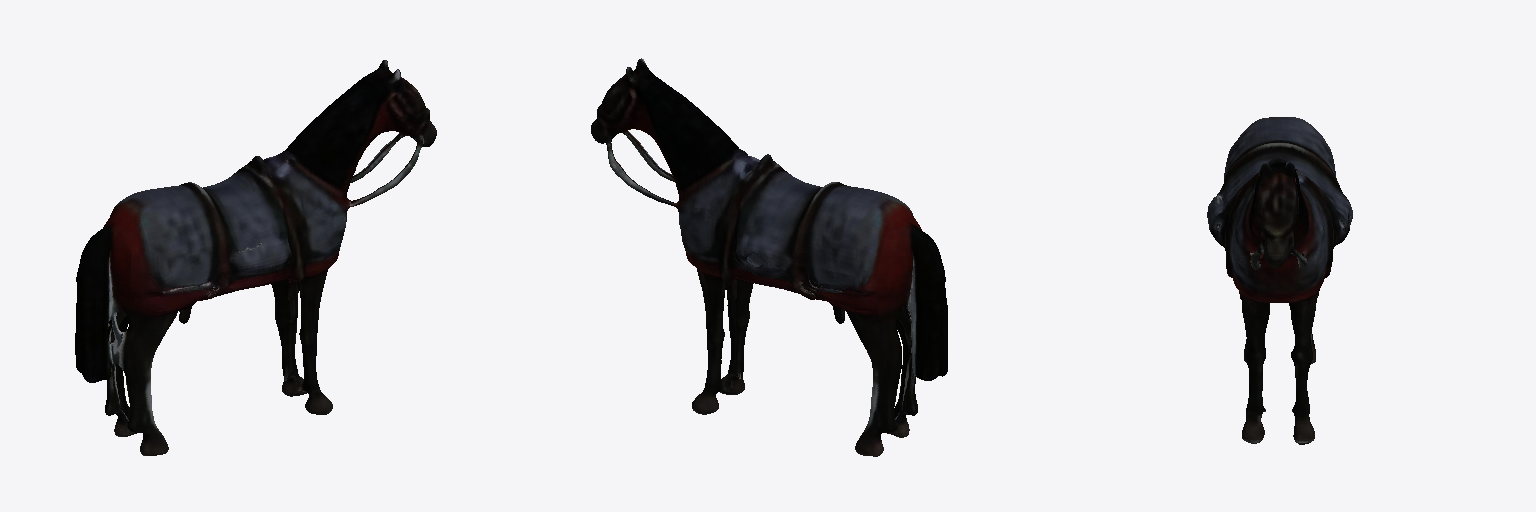
The picture shows the model from 3 angles: view 1: azimuth 30°, elevation 25°; view 2: azimuth 150°, elevation 25°; view 3: azimuth 270°, elevation 25°; orthographic projection.
Parts seen in each view (by area): view 1: mesh; view 2: mesh; view 3: mesh.
Boxes of the visible parts, <box> form: mesh: <box>75,60,436,455</box>; mesh: <box>591,58,947,456</box>; mesh: <box>1207,117,1352,444</box>.
Size of the model in its own units: 0.999 by 0.8608 by 0.3553.
Materials: 1 (1 with a texture image).